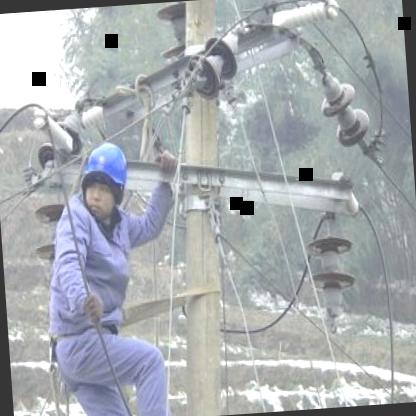helmet: (78, 137, 132, 226)
